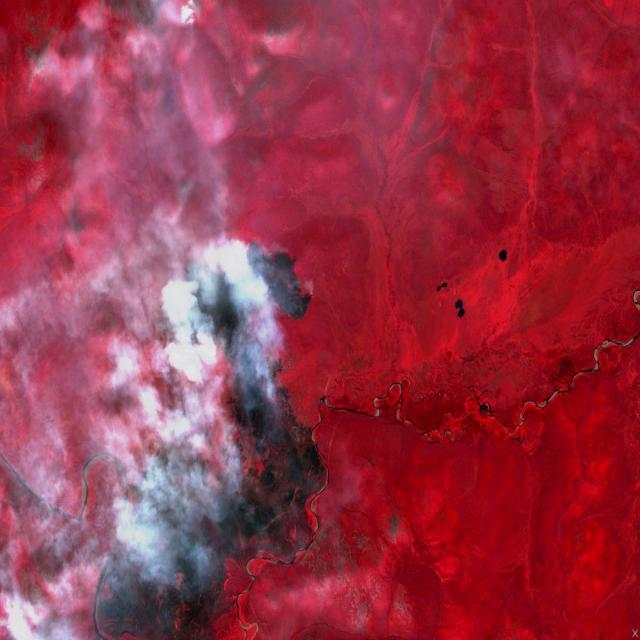fire: (165, 228, 318, 374), (226, 401, 253, 439)
